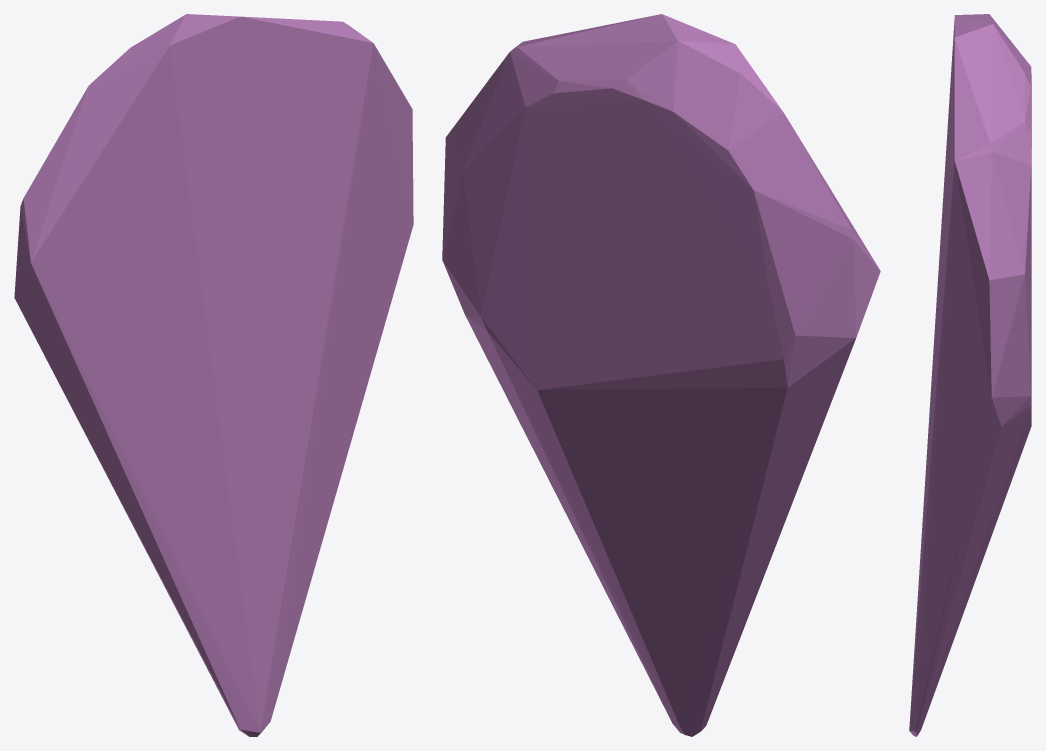
The model's file is kitchenware_pan_b01.glb.
3 renders of one model, left to right at view 1: azimuth 30°, elevation 25°; view 2: azimuth 150°, elevation 25°; view 3: azimuth 270°, elevation 25°, orthographic. The views are drawn at different scales.
Parts seen in each view (by area): view 1: geometry_0; view 2: geometry_0; view 3: geometry_0.
Part boxes in pixels (x1,y1,x2,y2): geometry_0: (14, 14, 413, 736); geometry_0: (442, 14, 880, 736); geometry_0: (909, 14, 1031, 736).
Size of the model in its own units: 0.286 by 0.4797 by 0.0761.
